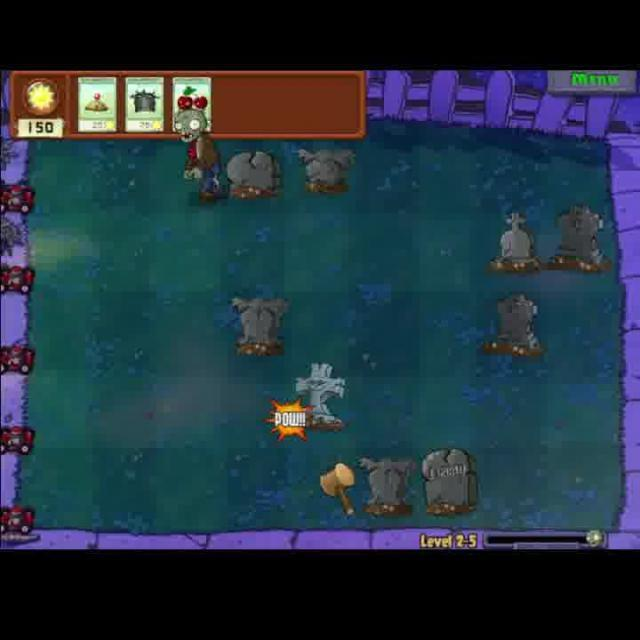zombies: (168, 106, 231, 210)
